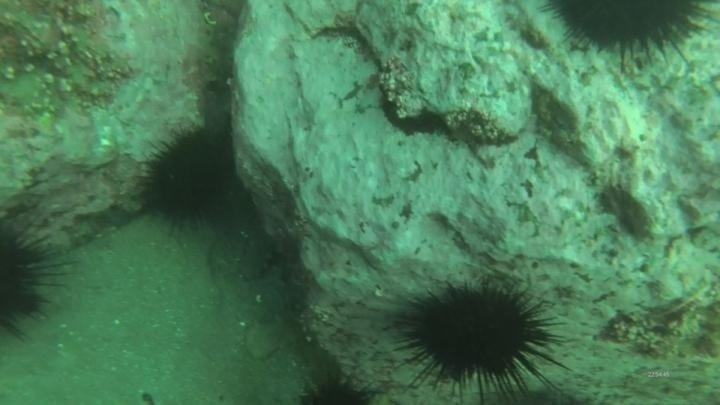echinus: (389, 273, 565, 401), (542, 1, 714, 68), (138, 123, 237, 230), (0, 216, 74, 340), (292, 366, 383, 405)
